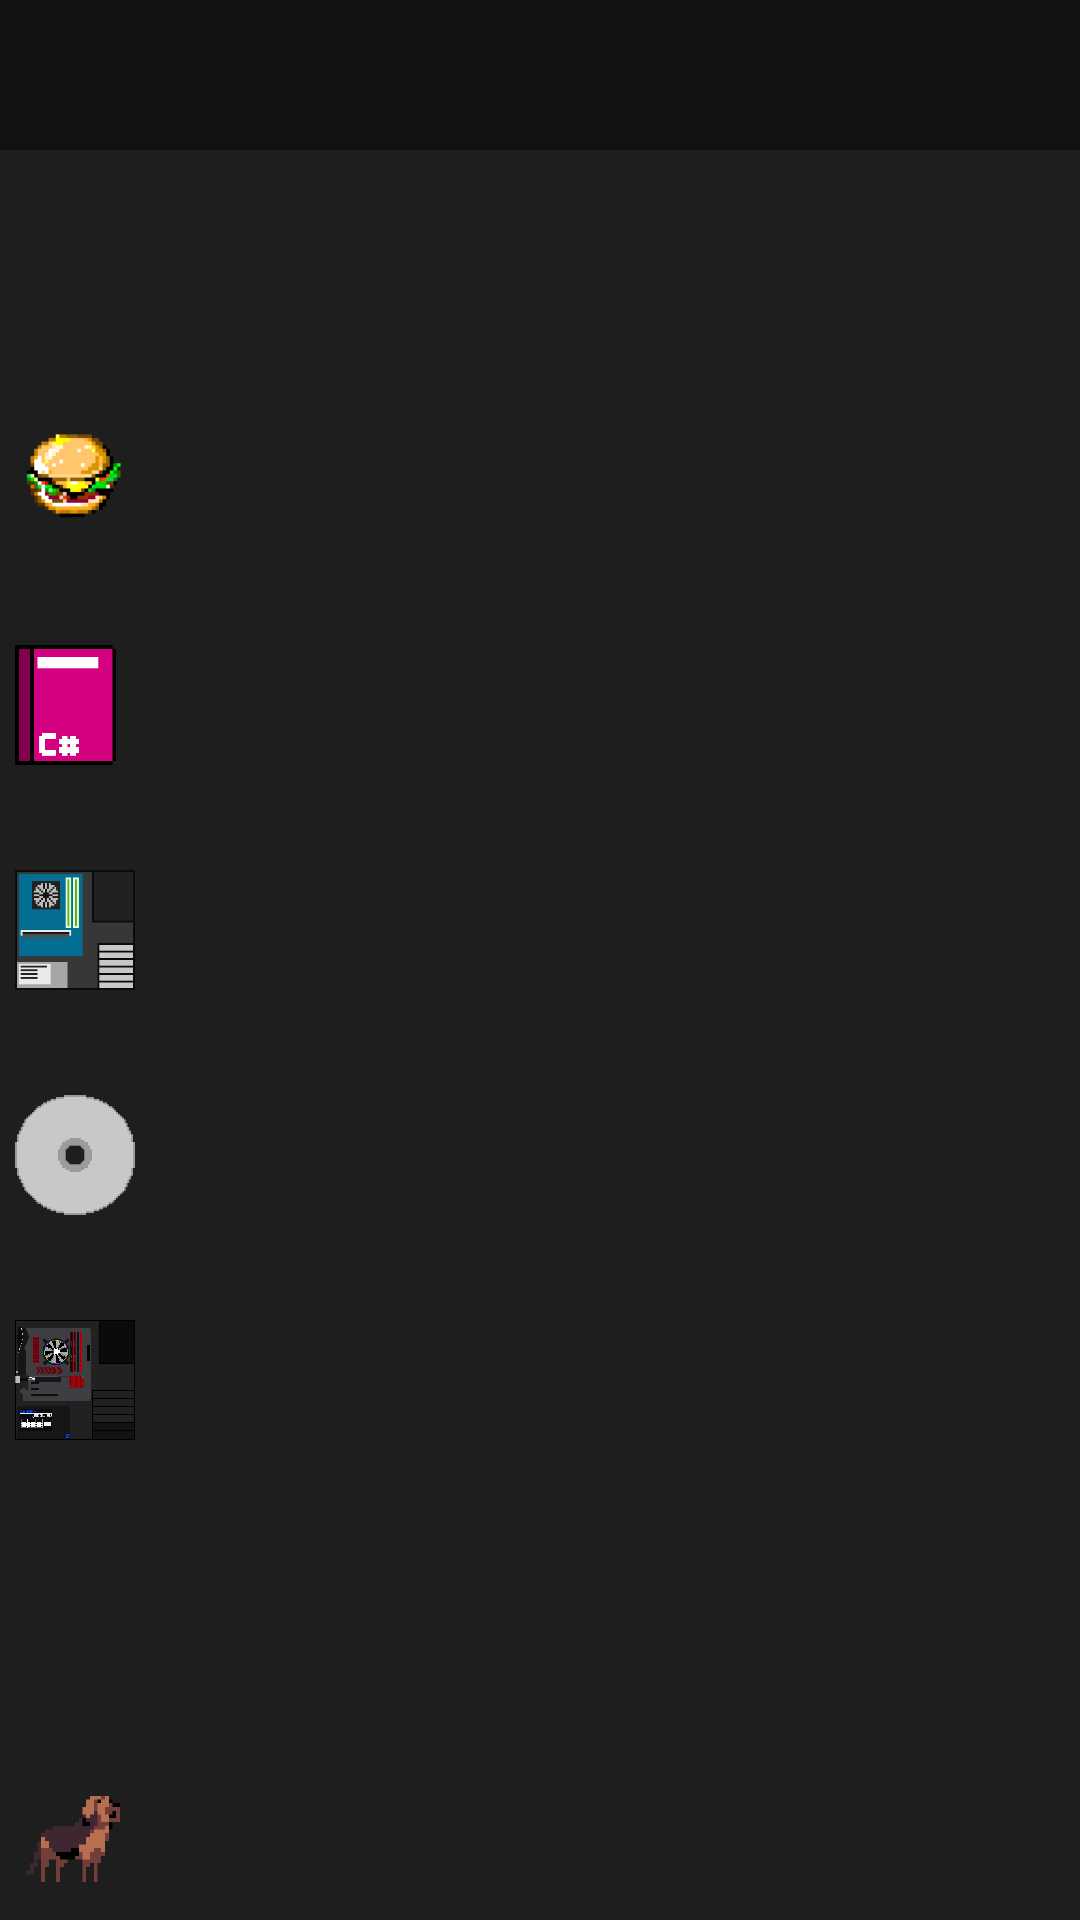

Icon bounding boxes for this 1080×1920 phone screenshot, format (x1, y1, x2, y2):
book cs: (15, 645, 116, 765)
dog: (26, 1796, 120, 1882)
food: (27, 434, 121, 517)
pc iron: (17, 872, 133, 988)
program: (15, 1095, 135, 1215)
